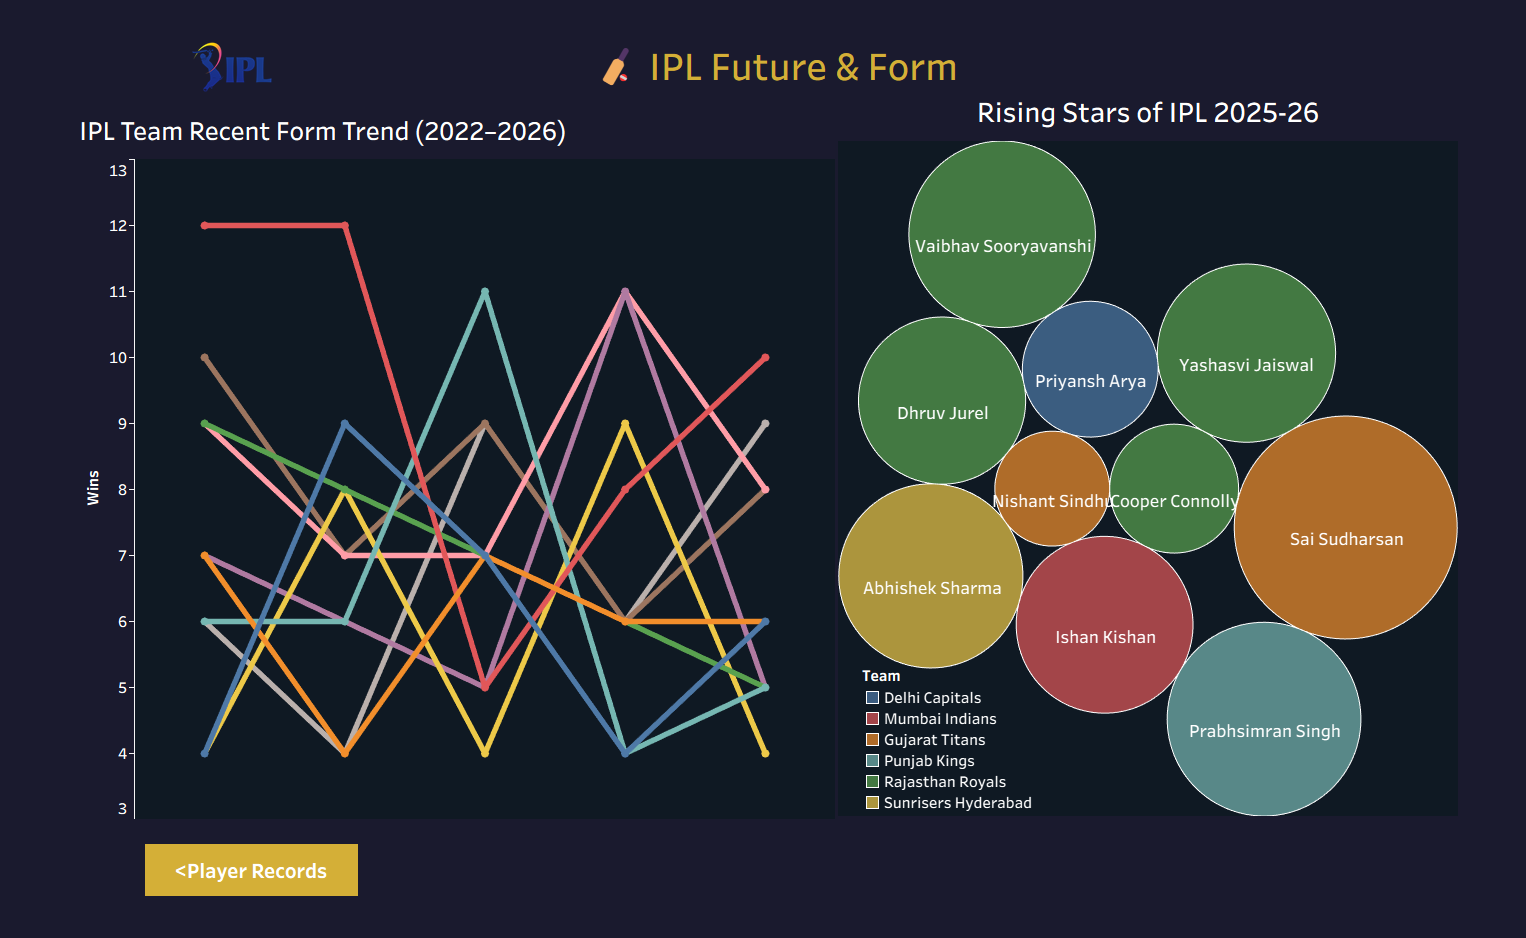

This screenshot's page, from the dashboard's own definition file:
{"tool":"tableau","page":{"name":"Future & Form","canvas":[1400,900],"ordinal":0},"visuals":[{"type":"image","param":"Image/ipl-logo.png","box":[125,10,119,81]},{"type":"text","box":[129,22,1157,55]},{"type":"worksheet","title":"Rising Stars","mark":"Circle","box":[772,73,620,727]},{"type":"worksheet","title":"Recent Form","mark":"Line","rows":["Pivot Field Values"],"cols":["Pivot Field Names"],"box":[9,93,760,710]},{"type":"legend","title":"Rising Stars","param":"[federated.0jhaoz91tce7mr15g4kcd0orhhu3].[none:Team:nk]","box":[796,649,175,159]},{"type":"dashboard-object","box":[79,828,213,52]}]}

Visuals, with their boxes on the page's 1400x900 design canvas (x1, y1, x2, y2). These are canvas units, not pixel positions in the 1526x938 screenshot, which may show the page scaled, cropped or inside an application window:
image: <bbox>125, 10, 244, 91</bbox>
text: <bbox>129, 22, 1286, 77</bbox>
"Rising Stars" worksheet (Circle marks): <bbox>772, 73, 1392, 800</bbox>
"Recent Form" worksheet (Line marks): <bbox>9, 93, 769, 803</bbox>
"Rising Stars" legend: <bbox>796, 649, 971, 808</bbox>
dashboard-object: <bbox>79, 828, 292, 880</bbox>
